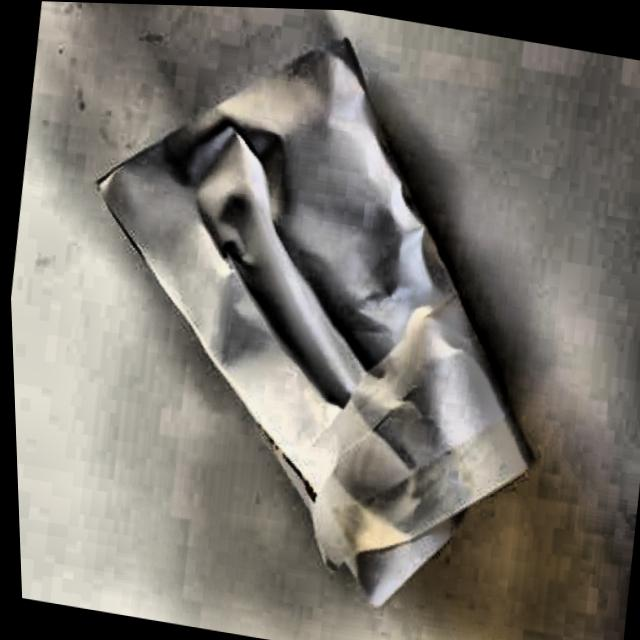Paper: (28, 1, 596, 632)
